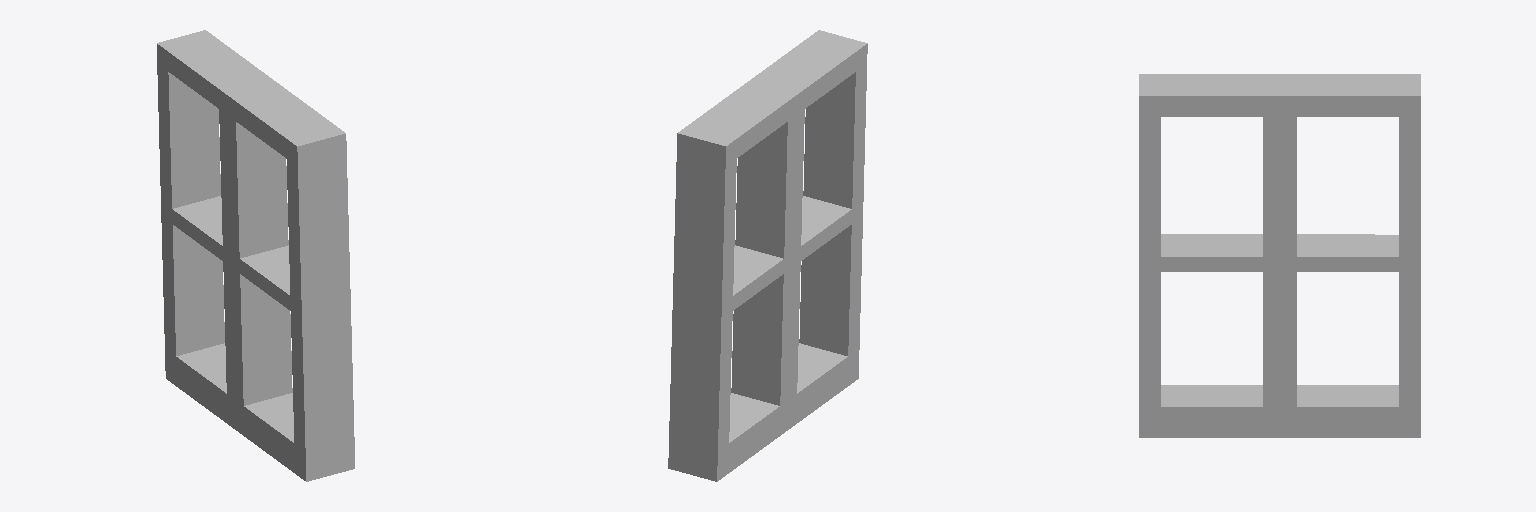
File: window.obj
3 renders of one model, left to right at view 1: azimuth 30°, elevation 25°; view 2: azimuth 150°, elevation 25°; view 3: azimuth 270°, elevation 25°, orthographic.
Visible parts, largest first — view 1: obj_0; view 2: obj_0; view 3: obj_0.
Part boxes in pixels (left/top/right/bottom): obj_0: left=157, top=30, right=354, bottom=481; obj_0: left=668, top=30, right=867, bottom=481; obj_0: left=1139, top=74, right=1420, bottom=437.
Size of the model in its own units: 5.97 by 33.13 by 25.01.